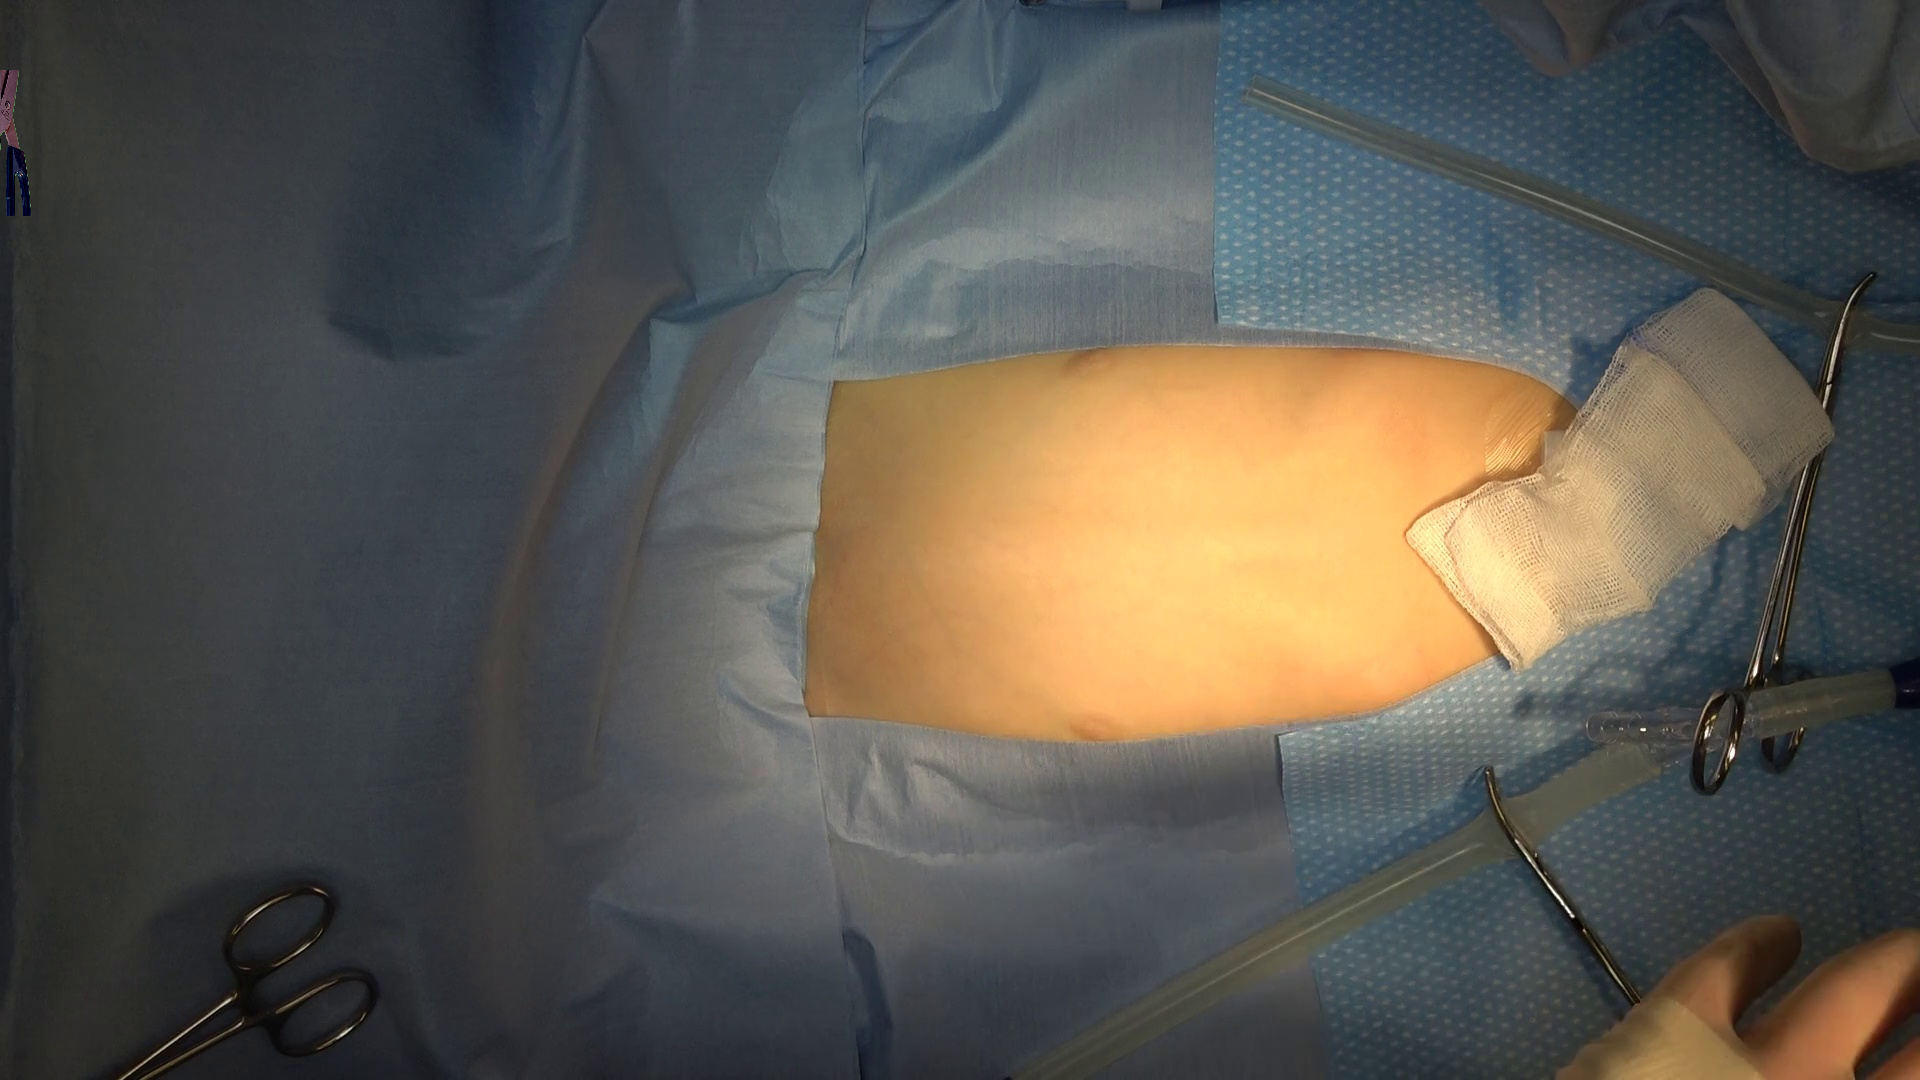scissors: (0, 70, 30, 215)
